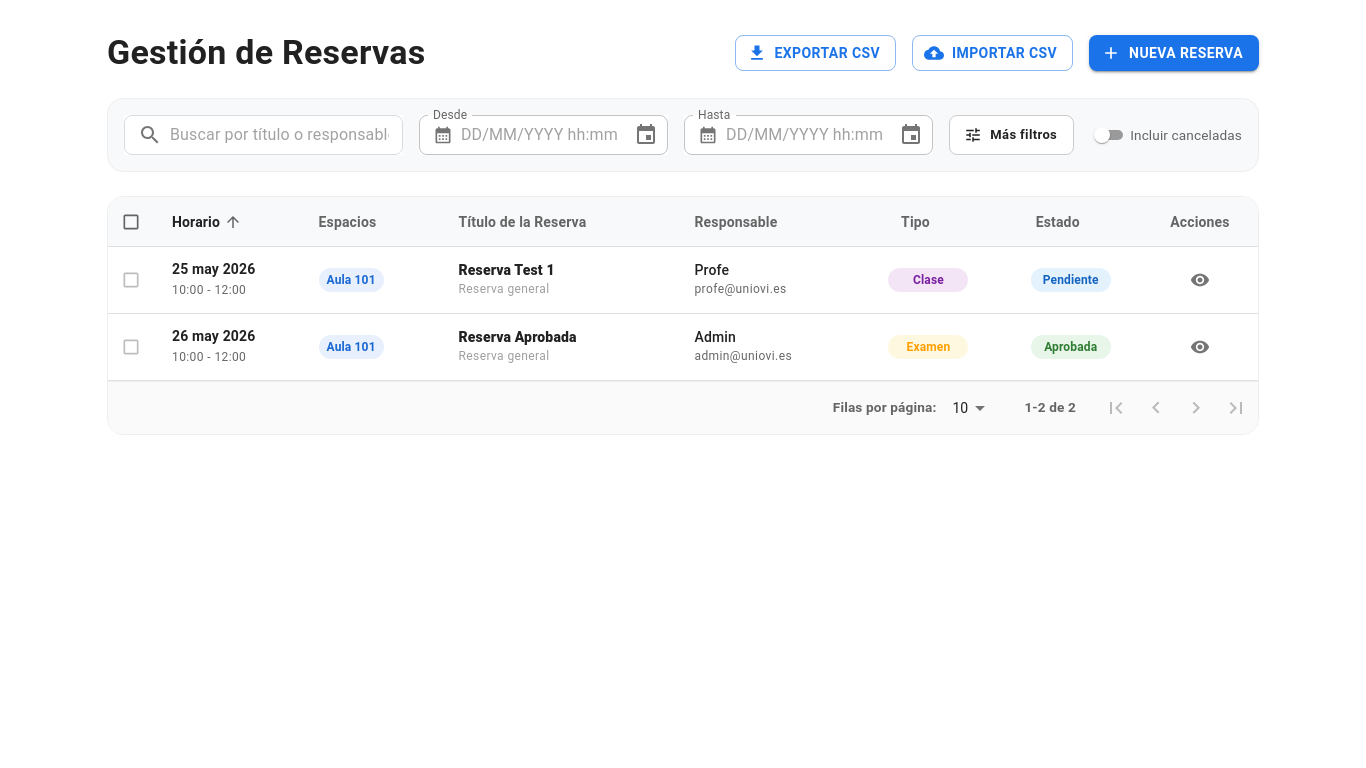
Test: ReservationList › debe abrir el diálogo de detalles al pulsar ver
expect the text "Reserva Test 1" is shown: met, box [458, 262, 555, 278]
Step 1. Click the button named "ver detalles" in the row of "25 may 2026" → coordinates (1200, 280), box [1185, 265, 1215, 295]
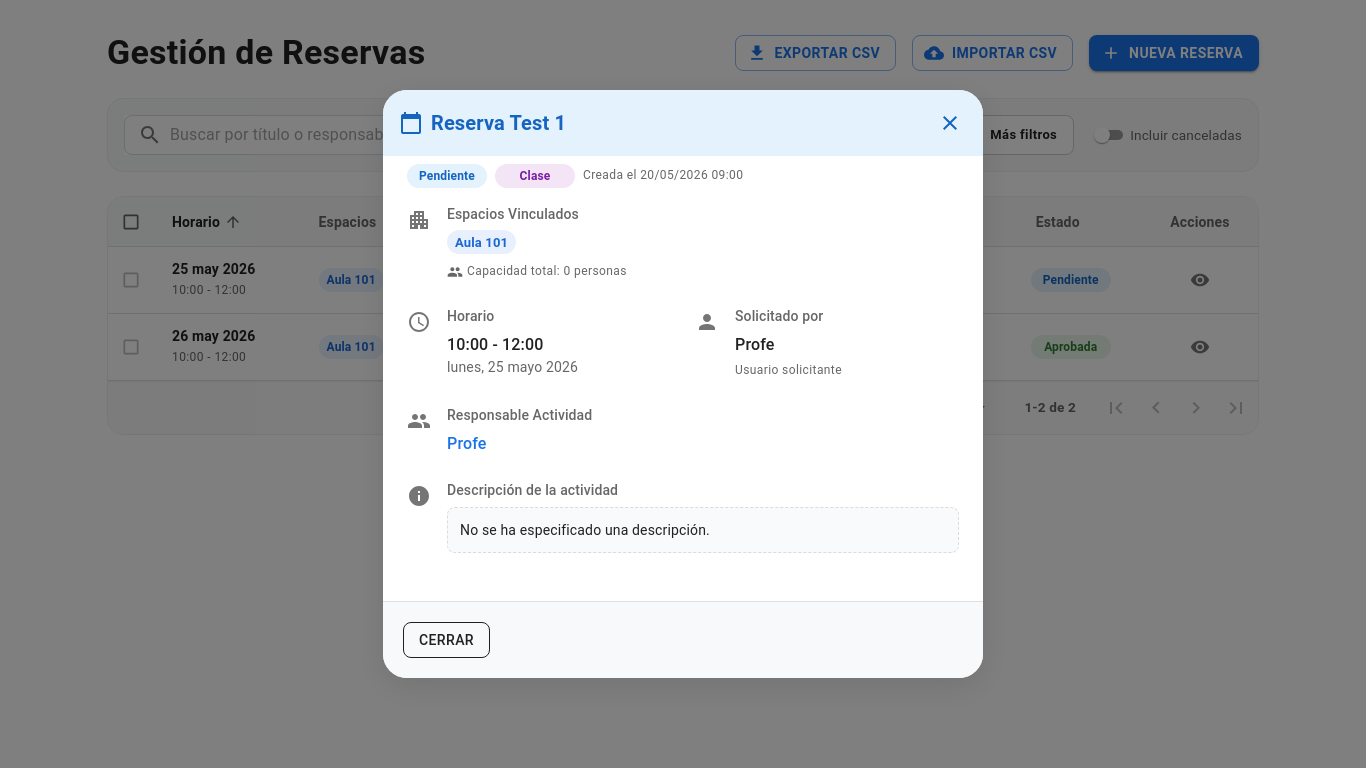
expect the element with test id "calendar-details-dialog" is shown: met
expect the text "Reserva Test 1" is shown: met, box [431, 107, 566, 139]
